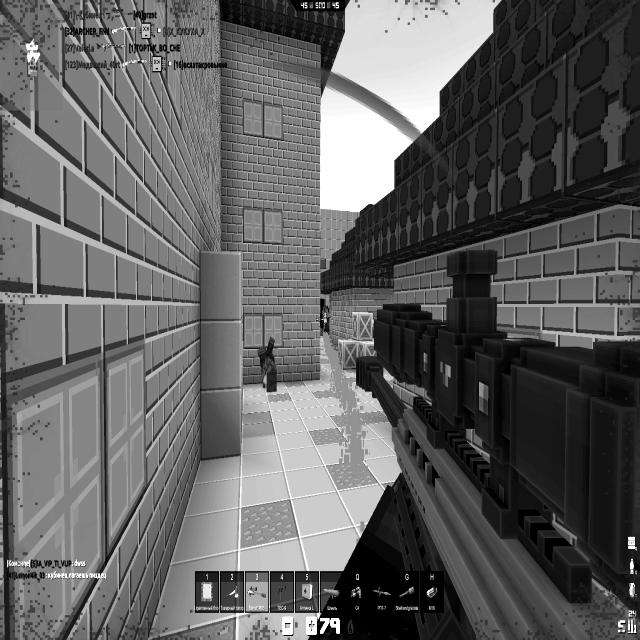Head: (267, 371, 277, 393), (321, 307, 330, 318)
Player: (257, 335, 277, 392), (321, 305, 330, 337)
